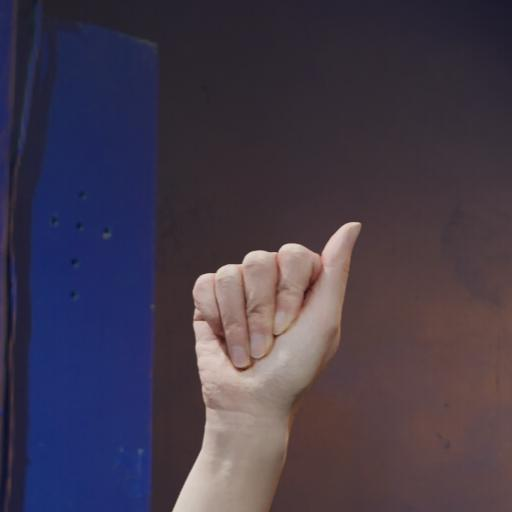A: (188, 220, 366, 411)
